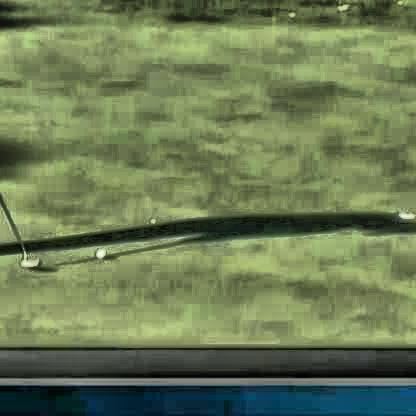golfball: (94, 244, 104, 255)
